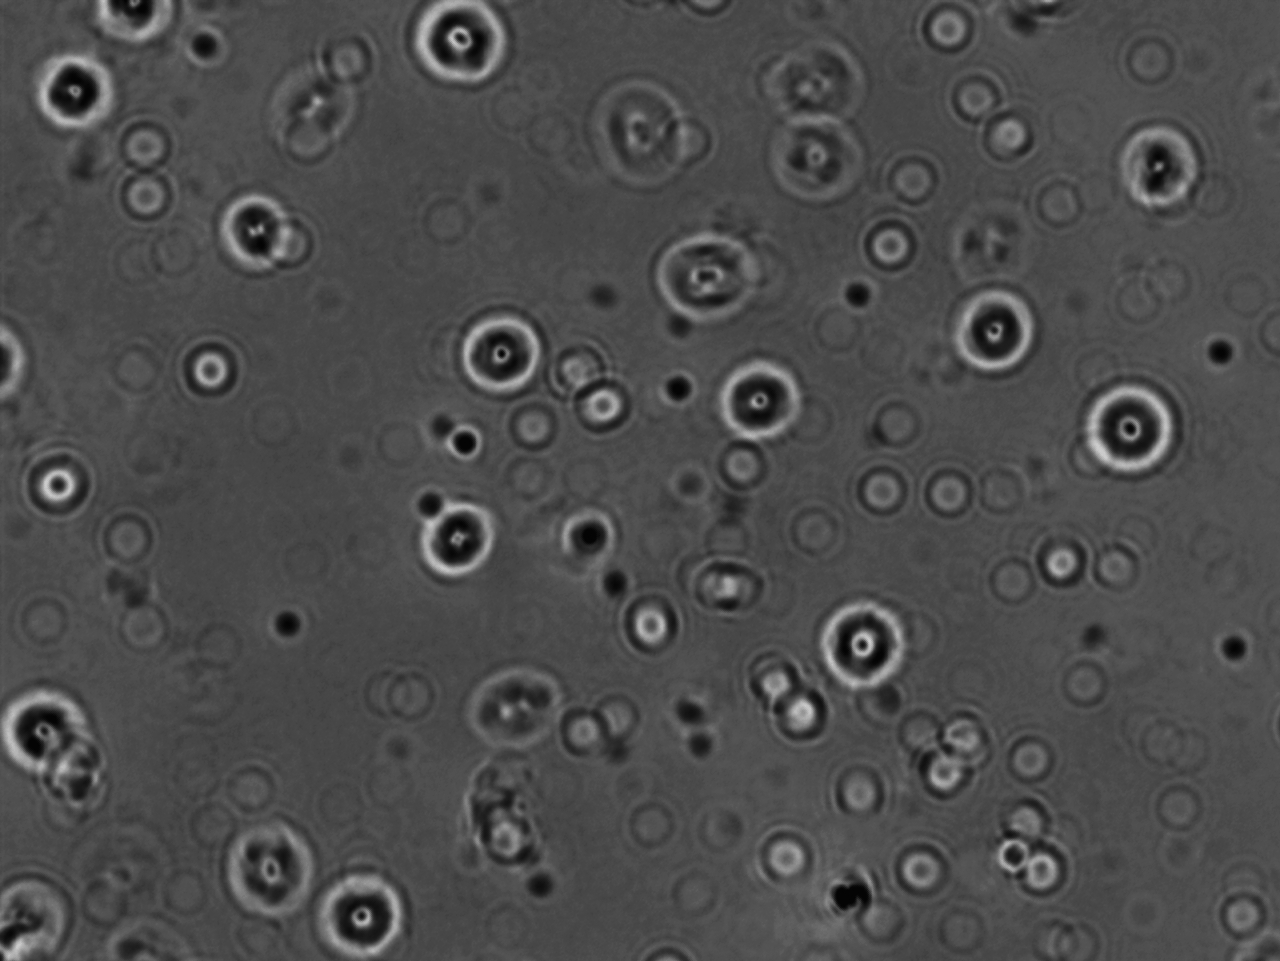depth:-8: (1071, 371, 1197, 489), (638, 230, 767, 333), (393, 490, 510, 603), (809, 593, 920, 702), (217, 820, 326, 925), (939, 290, 1053, 389), (205, 183, 309, 290), (456, 305, 558, 410), (295, 876, 421, 961), (716, 343, 812, 453), (33, 52, 132, 140)
